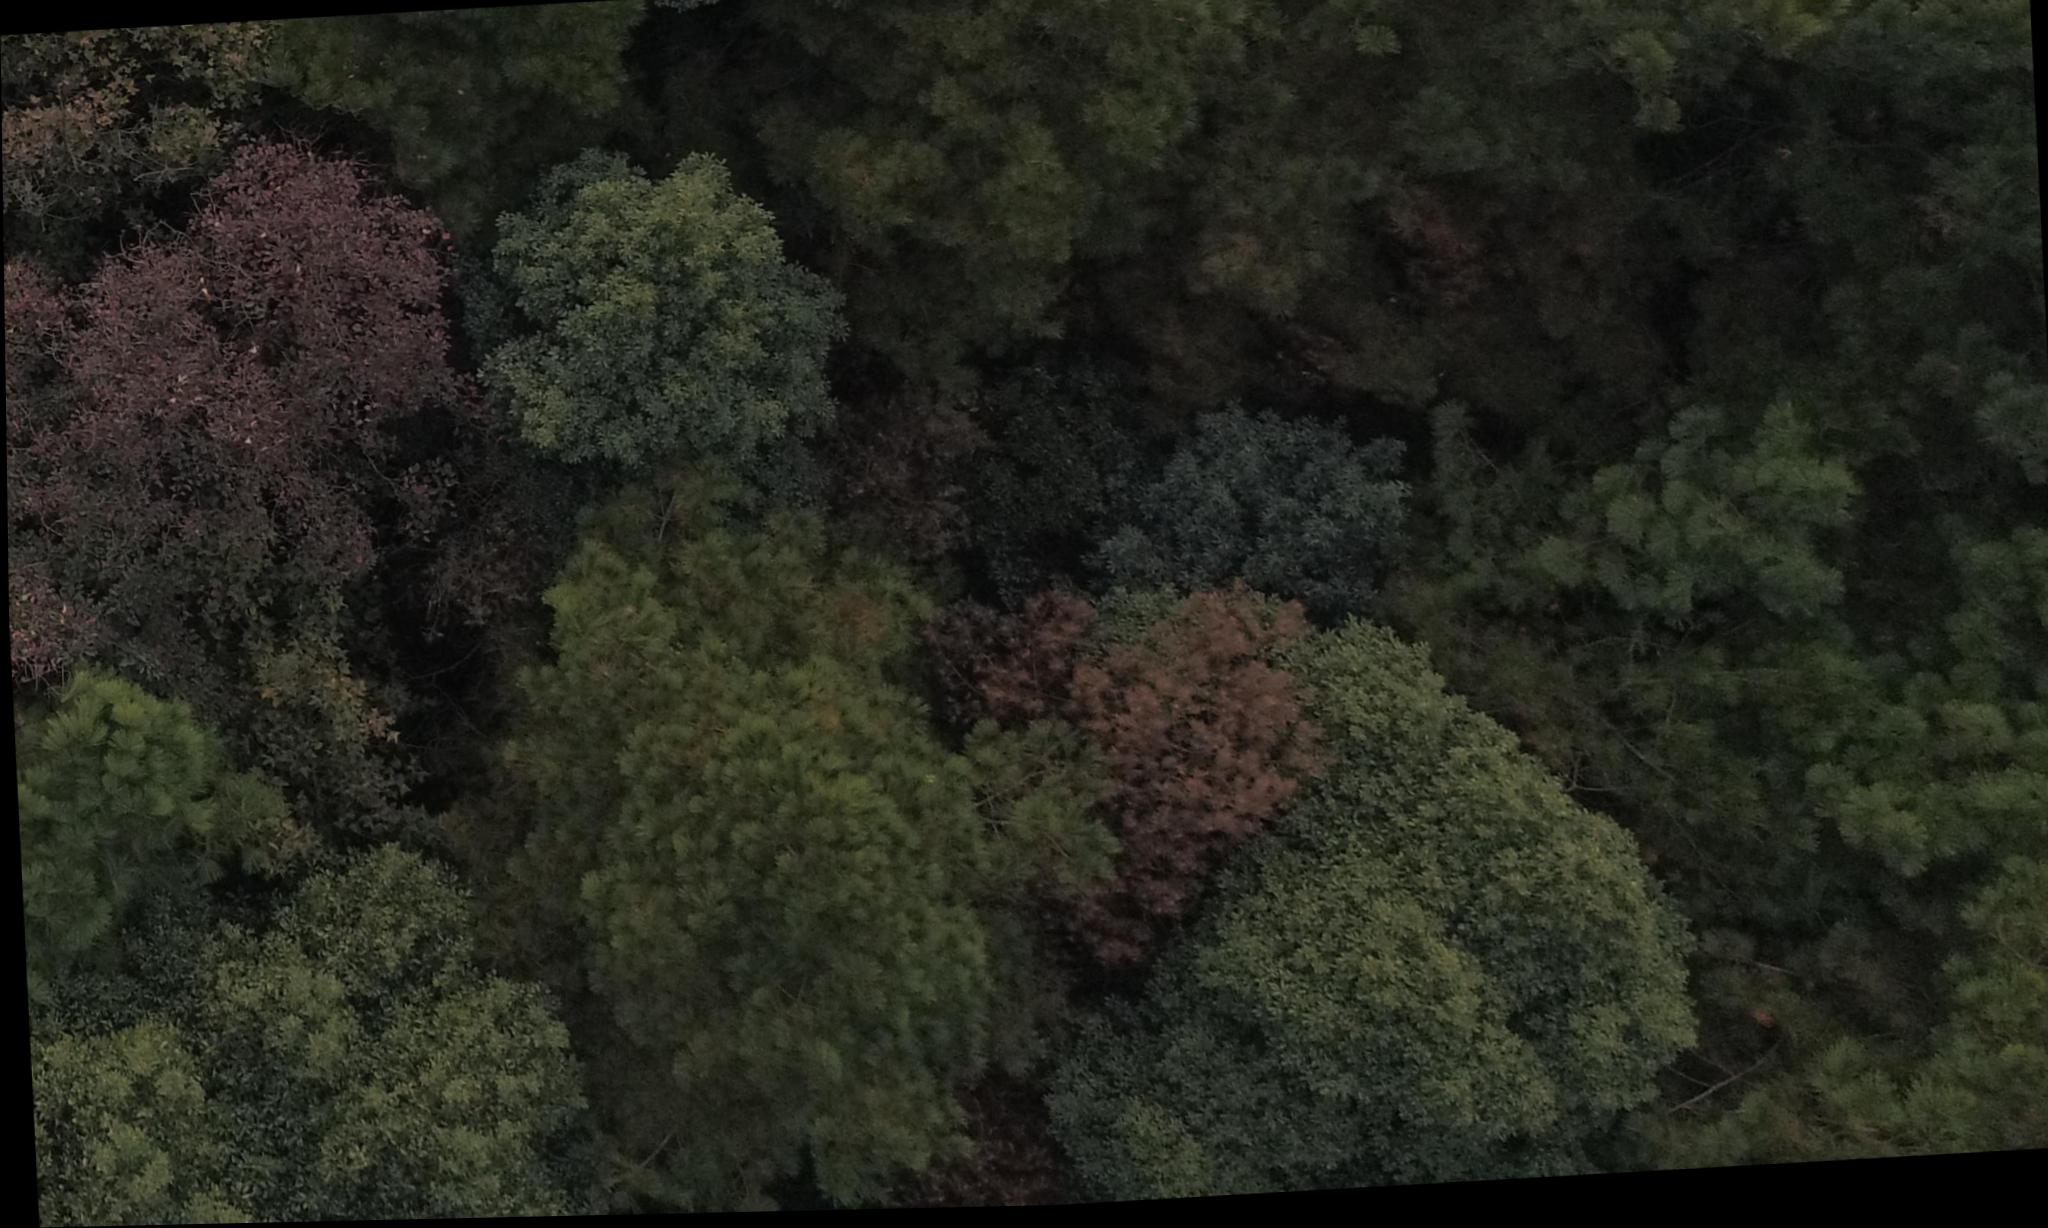heavy: (978, 607, 1305, 955)
